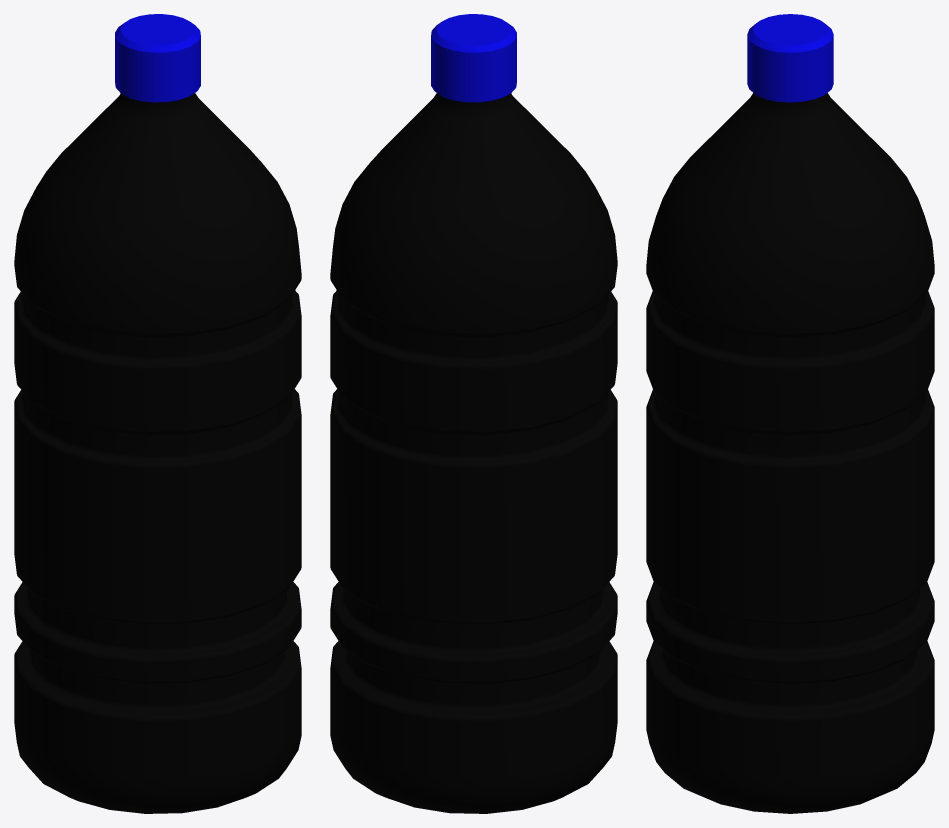
File: Bottle.fbx
The picture shows the model from 3 angles, left to right: view 1: azimuth 30°, elevation 25°; view 2: azimuth 150°, elevation 25°; view 3: azimuth 270°, elevation 25°; orthographic projection.
Visible parts, largest first — view 1: pCylinder1, pCylinder2; view 2: pCylinder1, pCylinder2; view 3: pCylinder1, pCylinder2.
Part boxes in pixels (left/top/right/bottom): pCylinder1: left=14, top=93, right=301, bottom=813; pCylinder2: left=115, top=14, right=200, bottom=102; pCylinder1: left=330, top=93, right=617, bottom=813; pCylinder2: left=431, top=14, right=516, bottom=102; pCylinder1: left=646, top=93, right=934, bottom=813; pCylinder2: left=747, top=14, right=833, bottom=102.
Size of the model in its own units: 2 by 5.64 by 2.
